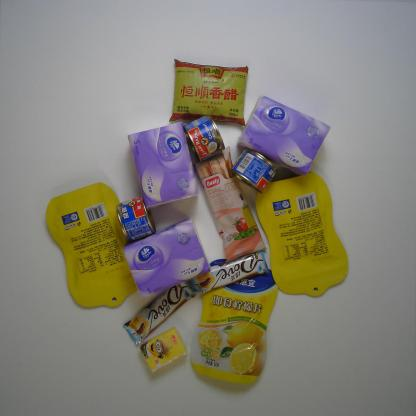Canned Food: (118, 196, 158, 243), (234, 147, 276, 191), (185, 115, 224, 162)
Chocolate: (124, 278, 204, 344), (189, 249, 269, 298)
Dessert: (196, 151, 267, 261)
Dried Fruit: (254, 172, 350, 299), (46, 183, 142, 309), (189, 267, 280, 386)
Seasoner: (168, 58, 253, 126)
Tissue: (122, 219, 216, 297), (240, 96, 330, 177), (126, 124, 200, 209), (140, 327, 188, 373)
